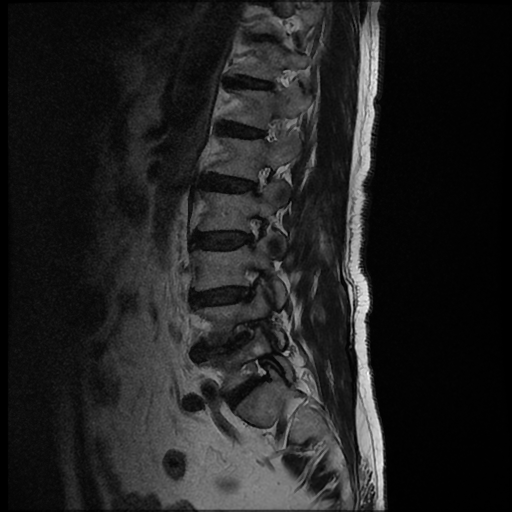LFS0: (239, 156, 277, 205), (231, 209, 270, 256)
LFS1: (233, 352, 275, 400)
LFS2: (233, 260, 275, 308)
LFS3: (223, 310, 265, 358)
